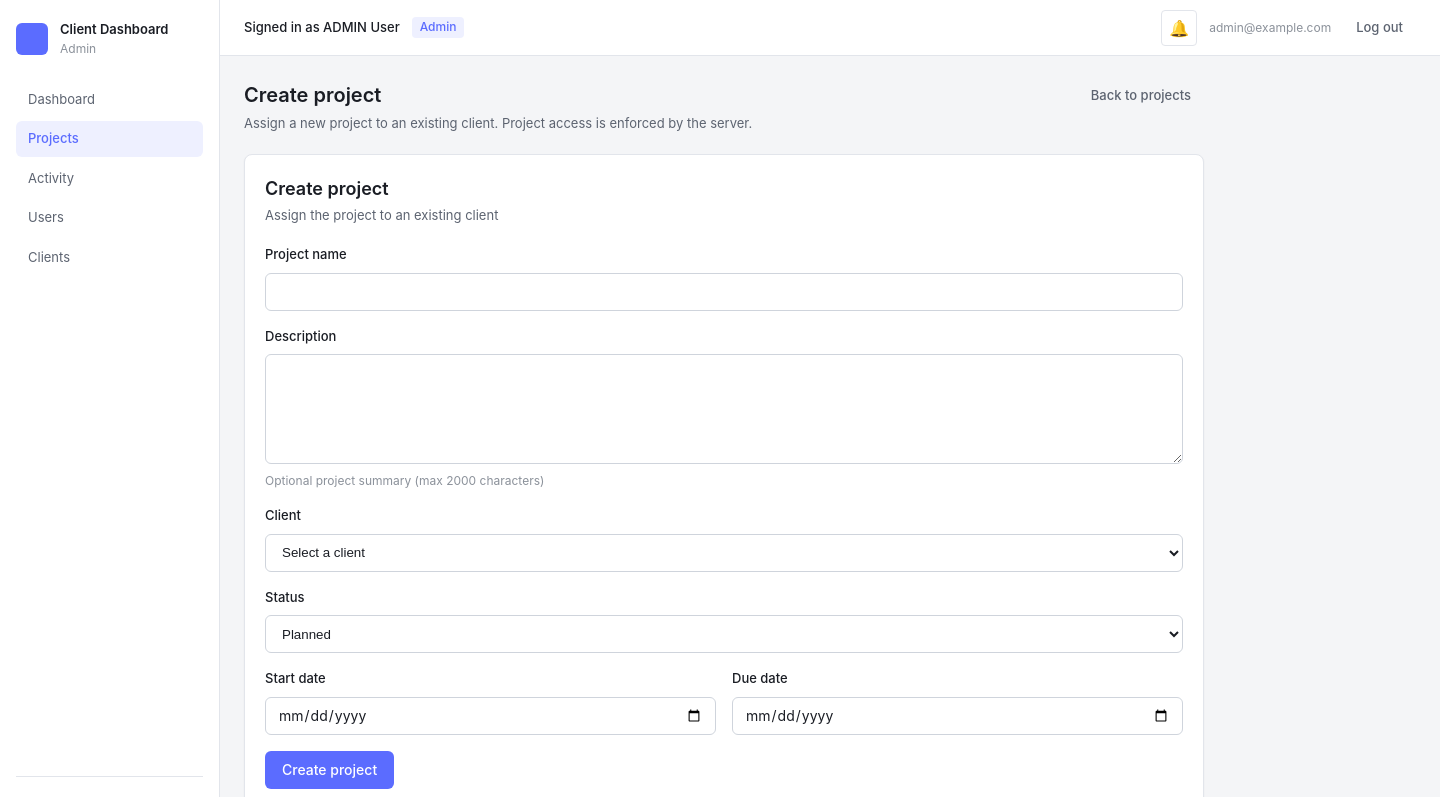
Test: Project management UI › surfaces API errors from project creation
This screenshot has width=1440, height=797.
Type "Broken Project" into the field labelled "Project name" at (724,292), box [265,272,1183,310]
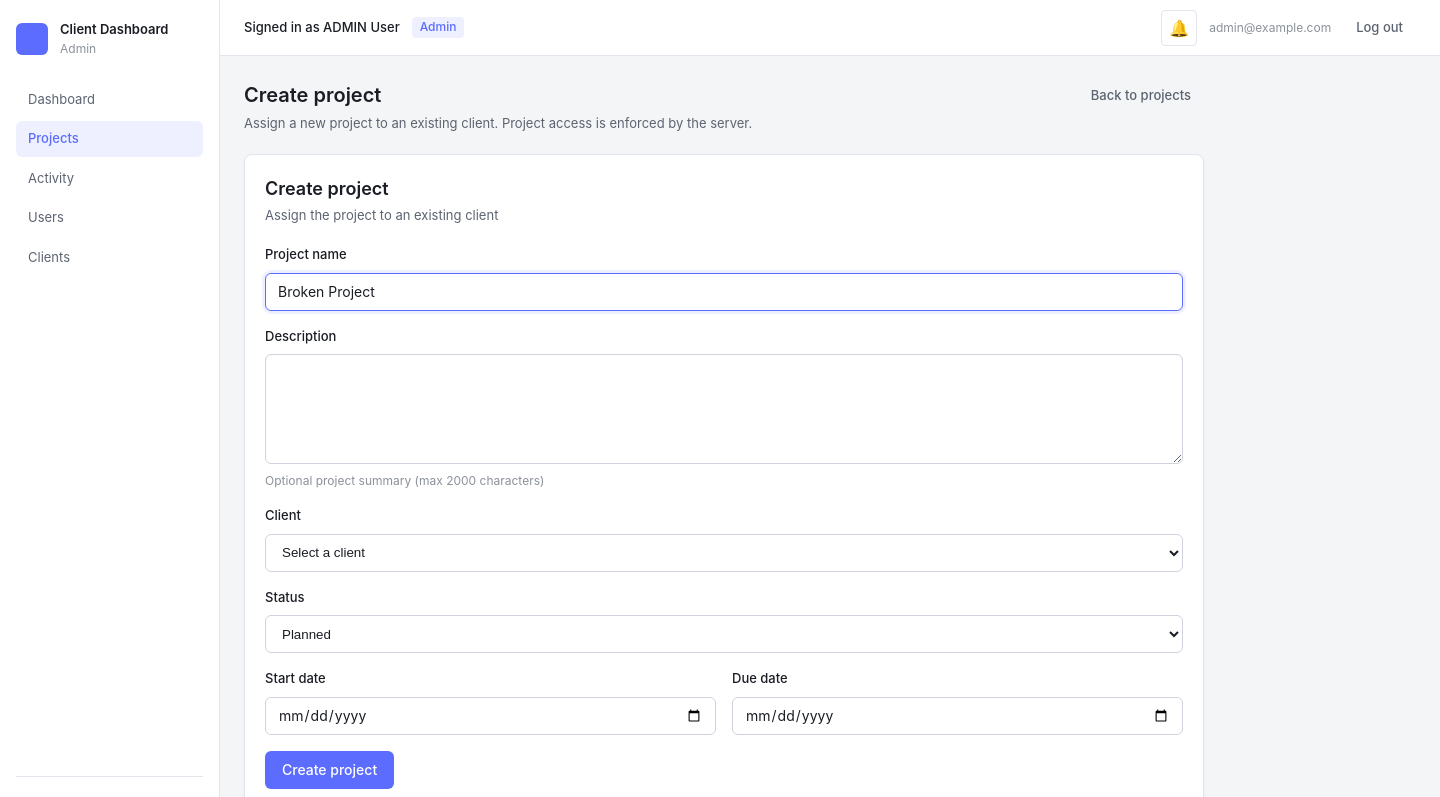
Select "Acme Corporation (Acme Corp)" in the dropdown labelled "Client" at (724,552), box [265,534,1183,572]
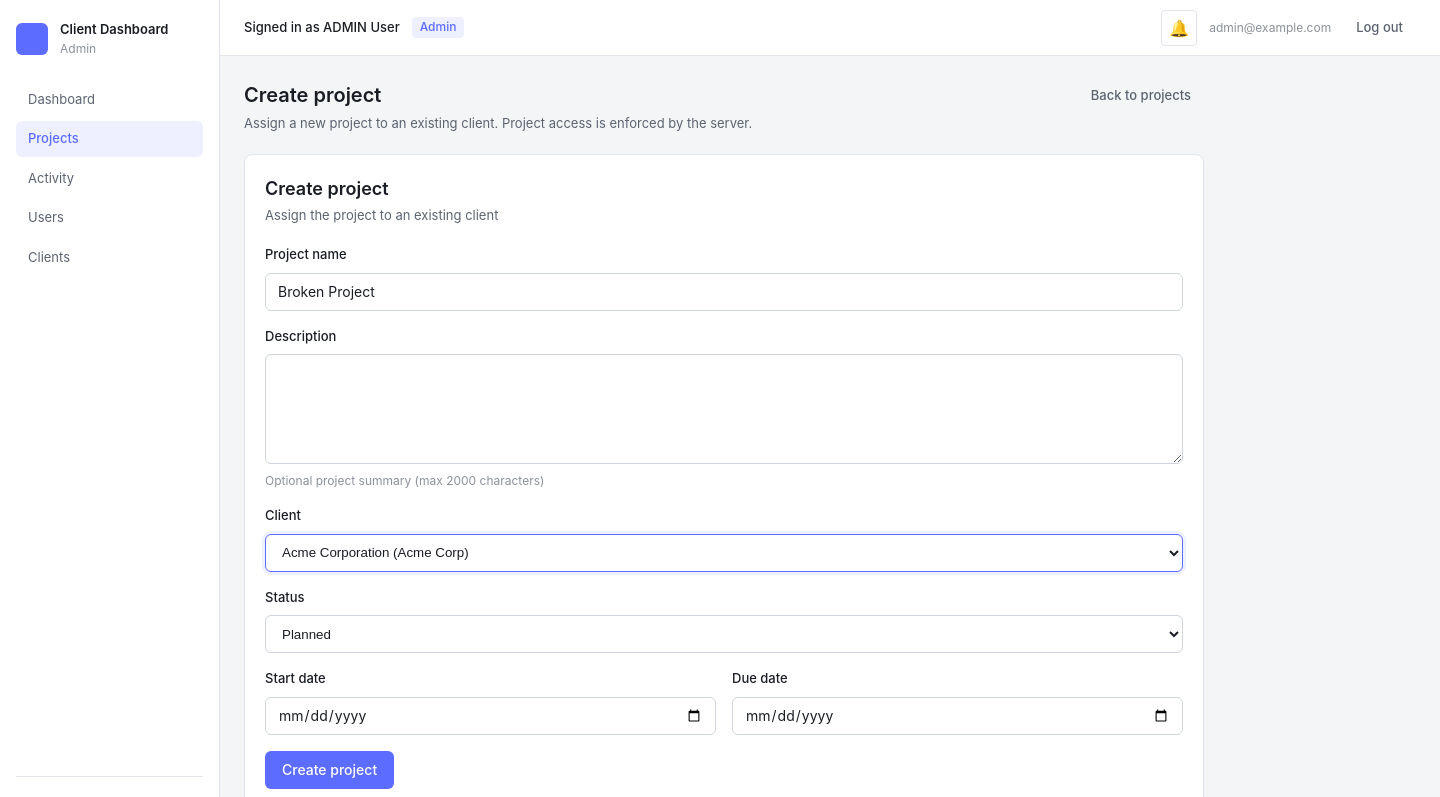
Click the button "Create project" at (330,770), box [265,750,394,788]
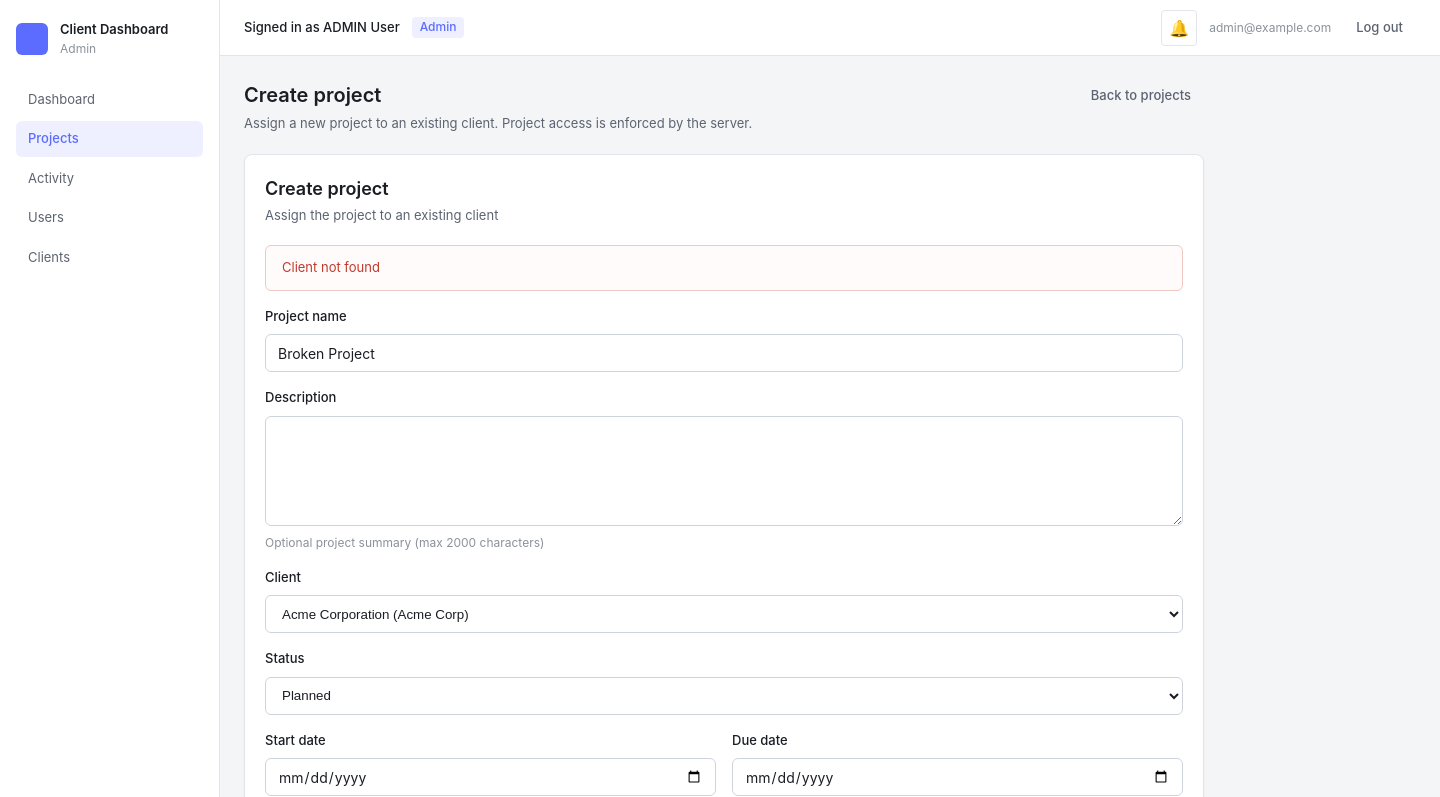
Result: the text "Client not found" is shown at [265,245,1183,290]
